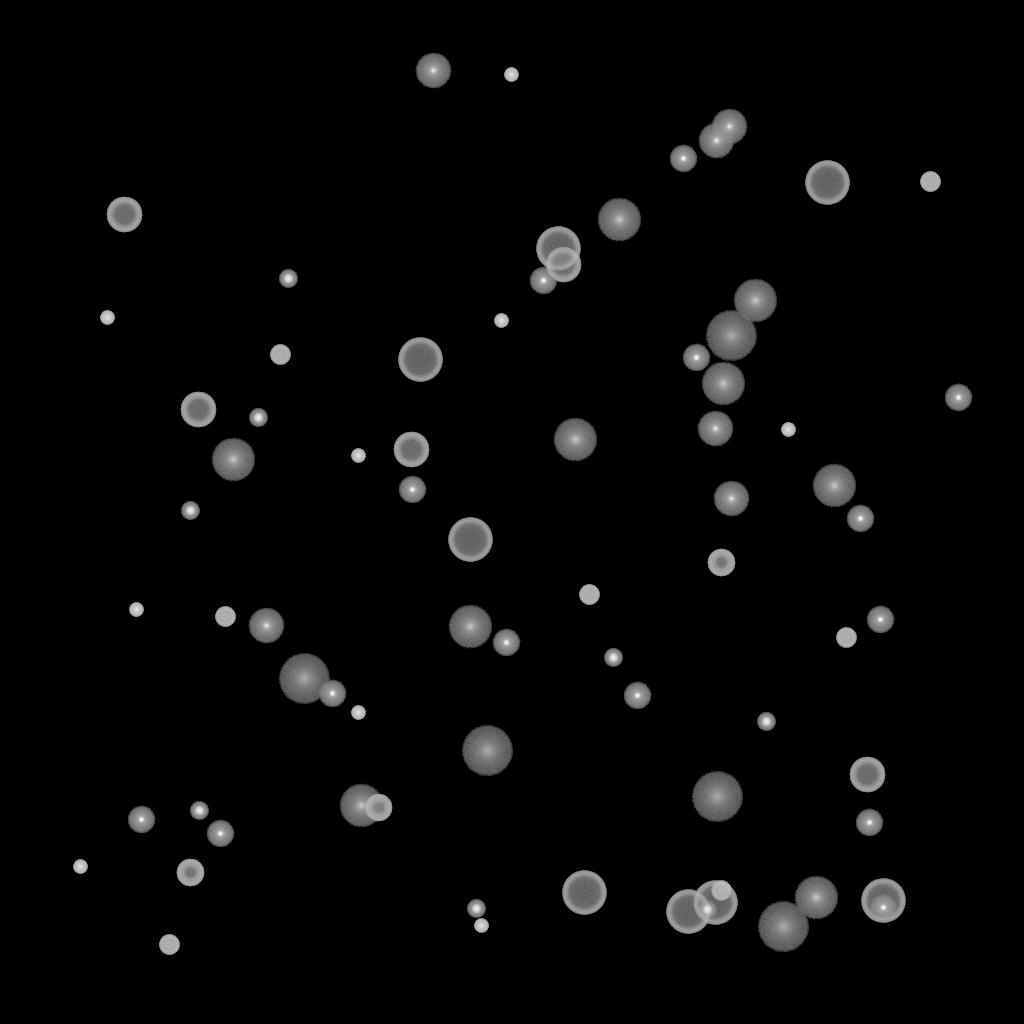depth:-10: (318, 680, 346, 708), (529, 267, 557, 295), (846, 505, 874, 533), (206, 820, 234, 848), (866, 606, 894, 634), (127, 806, 155, 834), (669, 145, 697, 173), (623, 682, 651, 710), (855, 809, 883, 837), (944, 384, 972, 412), (492, 629, 520, 657), (398, 476, 426, 504), (682, 344, 710, 372), (869, 894, 897, 922)
depth:-20: (467, 900, 485, 918), (757, 713, 775, 731), (249, 409, 267, 427), (181, 502, 199, 520), (698, 901, 716, 919), (604, 649, 622, 667), (279, 270, 297, 288), (190, 802, 208, 820)
depth:-30: (73, 860, 87, 874), (351, 706, 365, 720), (100, 311, 114, 325), (129, 603, 143, 617), (494, 314, 508, 328), (351, 449, 365, 463), (504, 68, 518, 82), (781, 423, 795, 437), (474, 919, 488, 933)
depth:-40: (920, 172, 940, 192), (215, 607, 235, 627), (579, 585, 599, 605), (159, 935, 179, 955), (836, 628, 856, 648), (270, 345, 290, 365), (711, 881, 731, 901)
depth:-50: (176, 859, 204, 887), (364, 794, 392, 822), (707, 549, 735, 577)
depth:-60: (545, 247, 581, 283), (393, 432, 429, 468), (106, 197, 142, 233), (180, 392, 216, 428), (849, 757, 885, 793)
depth:-70: (562, 871, 606, 915), (693, 881, 737, 925), (805, 161, 849, 205), (861, 879, 905, 923), (536, 227, 580, 271), (448, 518, 492, 562), (398, 338, 442, 382), (666, 890, 710, 934)
depth:0: (698, 123, 734, 159), (248, 608, 284, 644), (697, 411, 733, 447), (713, 481, 749, 517), (711, 109, 747, 145), (415, 53, 451, 89)
depth:10: (812, 464, 856, 508), (701, 362, 745, 406), (553, 418, 597, 462), (211, 438, 255, 482), (733, 279, 777, 323), (448, 605, 492, 649), (339, 784, 383, 828), (794, 876, 838, 920), (597, 198, 641, 242)
depth:20: (691, 772, 743, 822), (278, 654, 330, 704), (461, 726, 513, 776), (757, 902, 809, 952), (705, 311, 757, 361)
